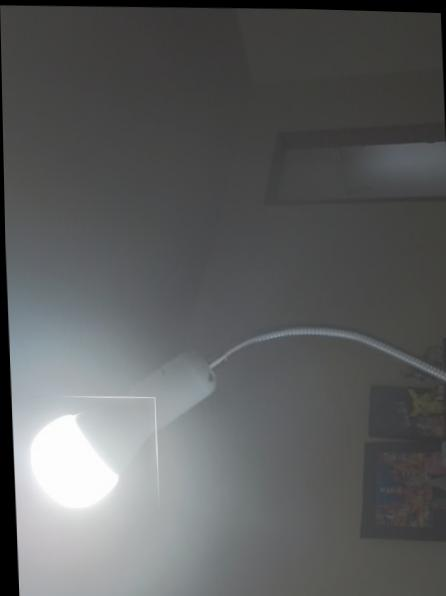TubeLight: (25, 392, 156, 509)
